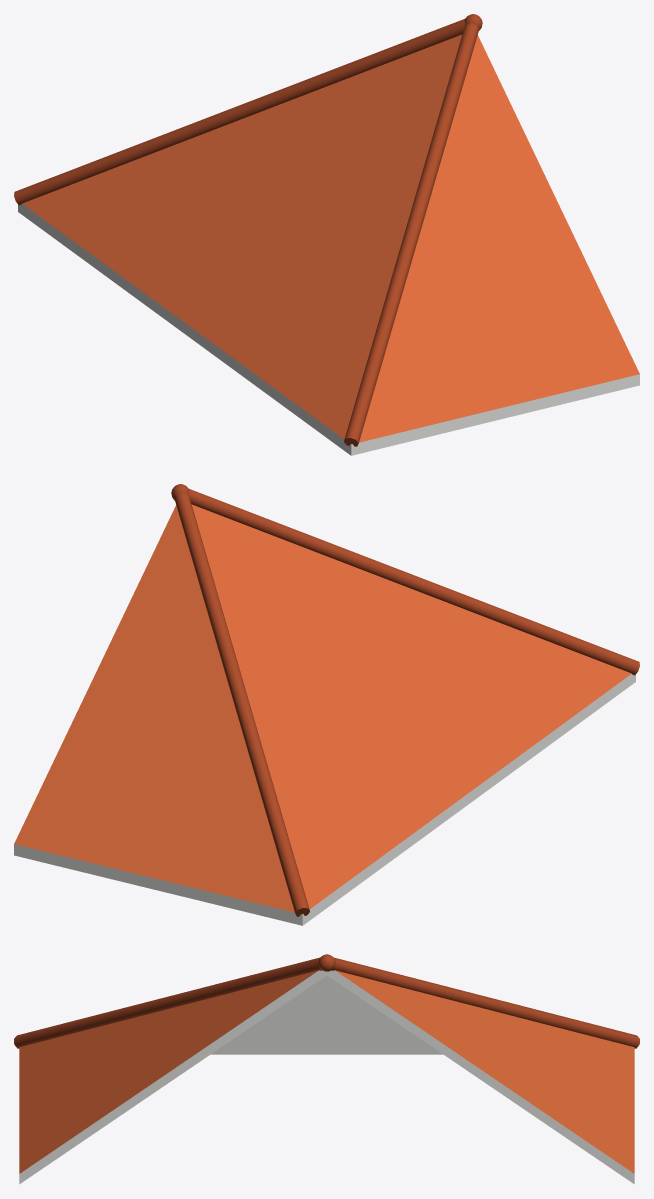
File: telhado_quatro_aguas_ponta_v6_i75.glb
3 renders of one model, top to bottom at view 1: azimuth 30°, elevation 25°; view 2: azimuth 150°, elevation 25°; view 3: azimuth 270°, elevation 25°, orthographic. The views are drawn at different scales.
Parts seen in each view (by area): view 1: telhado_quatro_aguas_ponta_v6_i75; view 2: telhado_quatro_aguas_ponta_v6_i75; view 3: telhado_quatro_aguas_ponta_v6_i75.
Boxes of the visible parts, x1,y1,x2,y2 form: telhado_quatro_aguas_ponta_v6_i75: [14, 14, 639, 455]; telhado_quatro_aguas_ponta_v6_i75: [14, 484, 639, 925]; telhado_quatro_aguas_ponta_v6_i75: [14, 954, 639, 1184].
Bounding box in the file's own units: 3.14 × 2.47 × 6.1.
